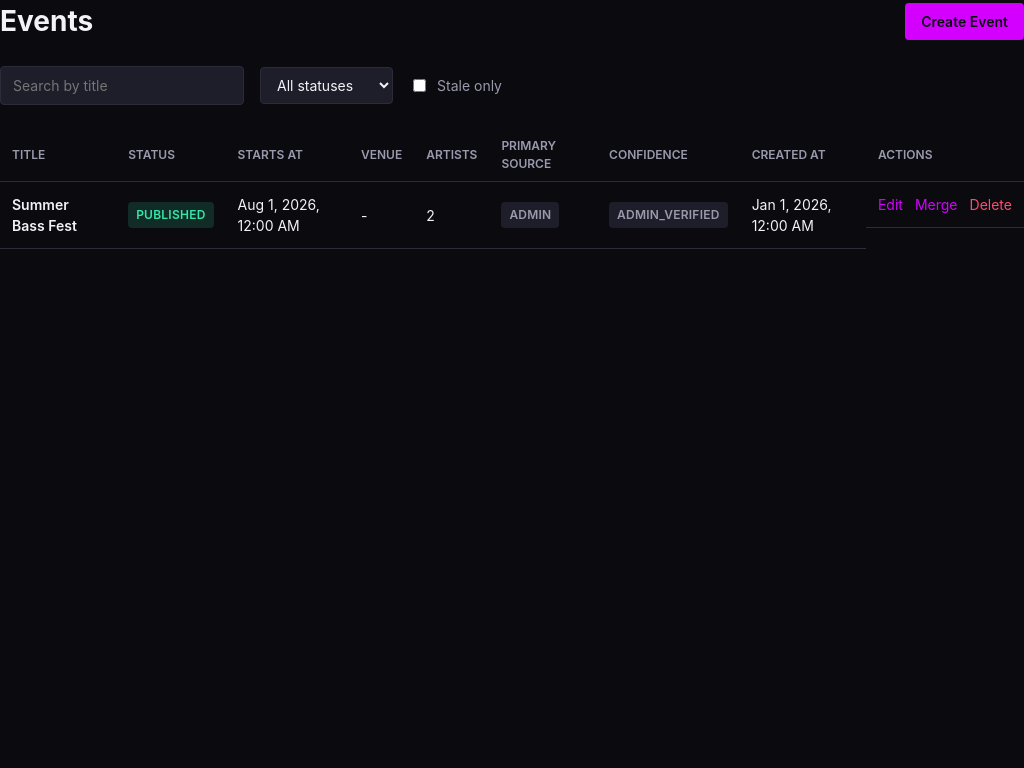
Test: AdminEvents › cancelling the confirm dialog never sends the delete request
The width and height of the screenshot is (1024, 768).
Expected: the link "Summer Bass Fest" is shown, left=12, top=196, right=77, bottom=234
Click the button "Delete". click: click(991, 204)
box: left=970, top=194, right=1012, bottom=215
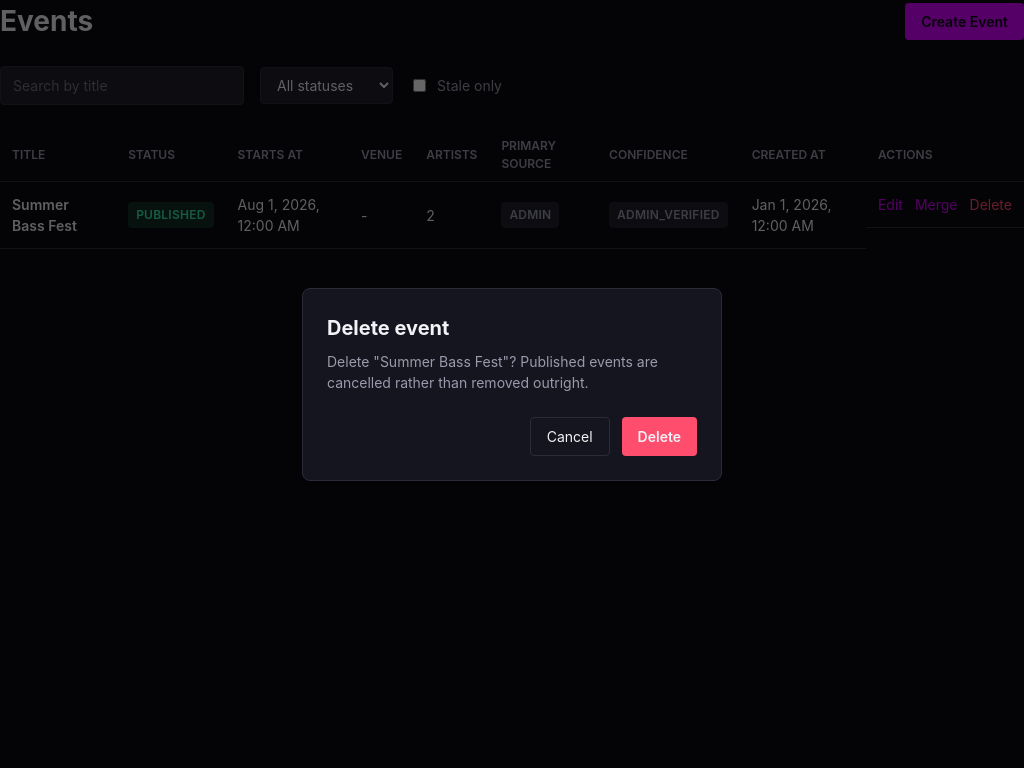
Click the button "Cancel". click: click(570, 436)
box: left=530, top=416, right=610, bottom=456
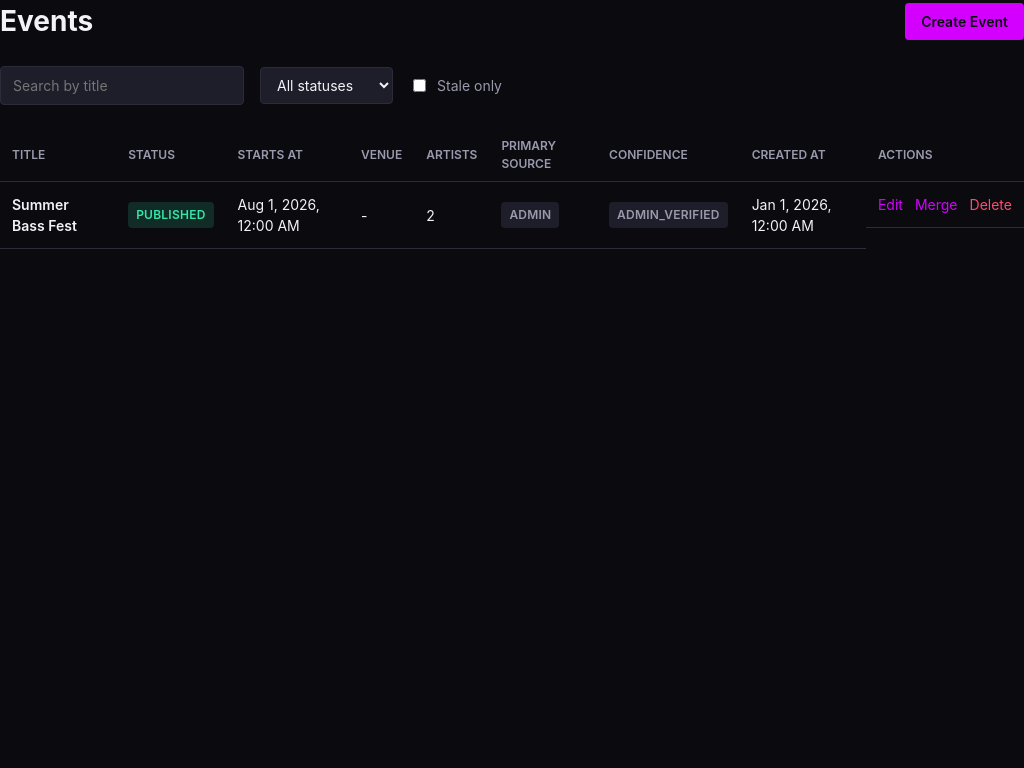
Expected: the dialog is gone
